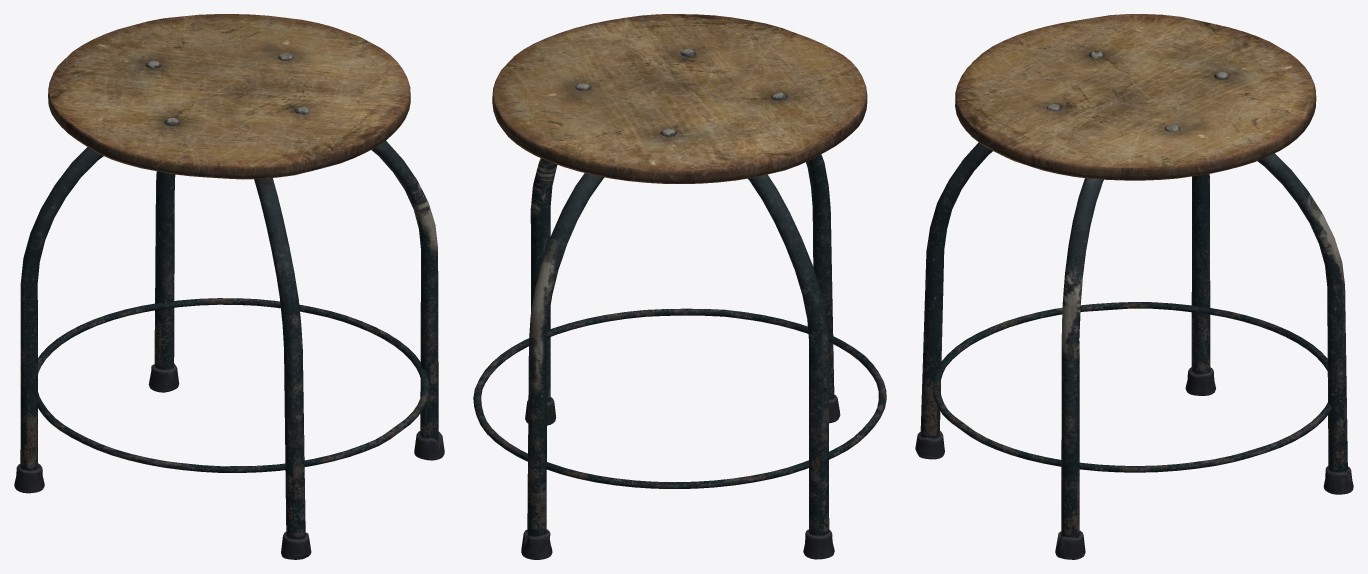
File: metal_stool_02.glb
3 views of the same model, side by side, from view 1: azimuth 30°, elevation 25°; view 2: azimuth 150°, elevation 25°; view 3: azimuth 270°, elevation 25° (orthographic). The views are drawn at different scales.
Visible parts, largest first — view 1: metal_stool_02; view 2: metal_stool_02; view 3: metal_stool_02.
Boxes of the visible parts, x1,y1,x2,y2 form: metal_stool_02: [14, 14, 444, 559]; metal_stool_02: [473, 14, 886, 559]; metal_stool_02: [915, 14, 1353, 559].
Bounding box in the file's own units: 0.4481 × 0.4579 × 0.4731.
1 material, 1 textured.
